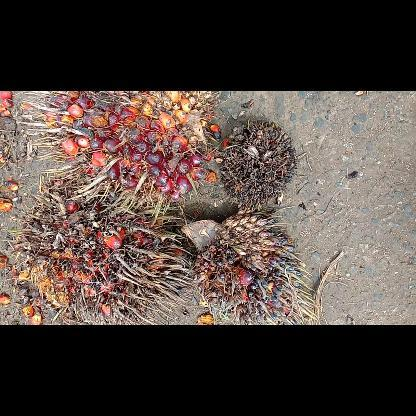TBS abnormal: (179, 207, 319, 324), (217, 117, 299, 211)
TBS masak: (38, 92, 214, 204)
Terlalu masak: (19, 178, 193, 320)
